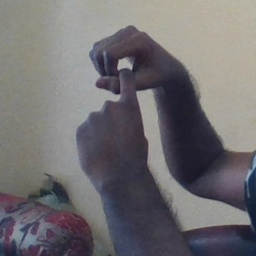Q: (73, 24, 168, 157)
